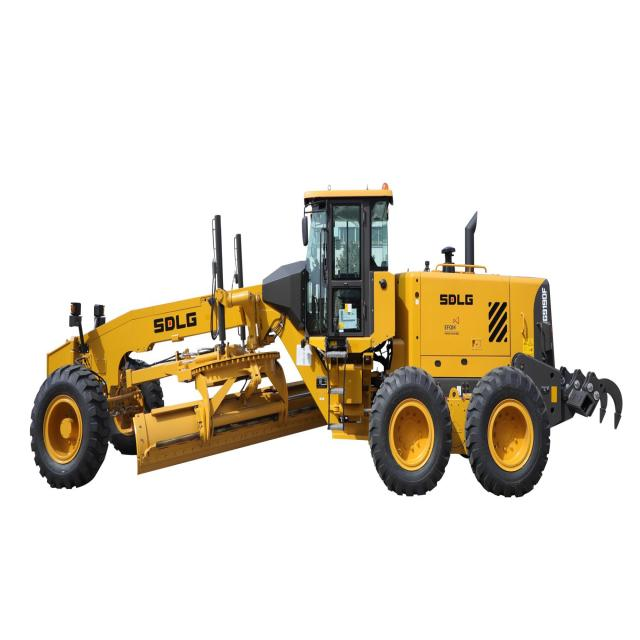buldozerpayloadergrader: (19, 174, 622, 505)
